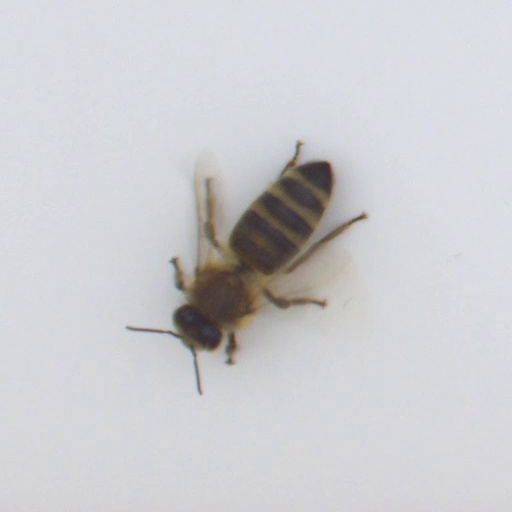Bee: (157, 141, 358, 362)
Thorax: (188, 263, 257, 325)
